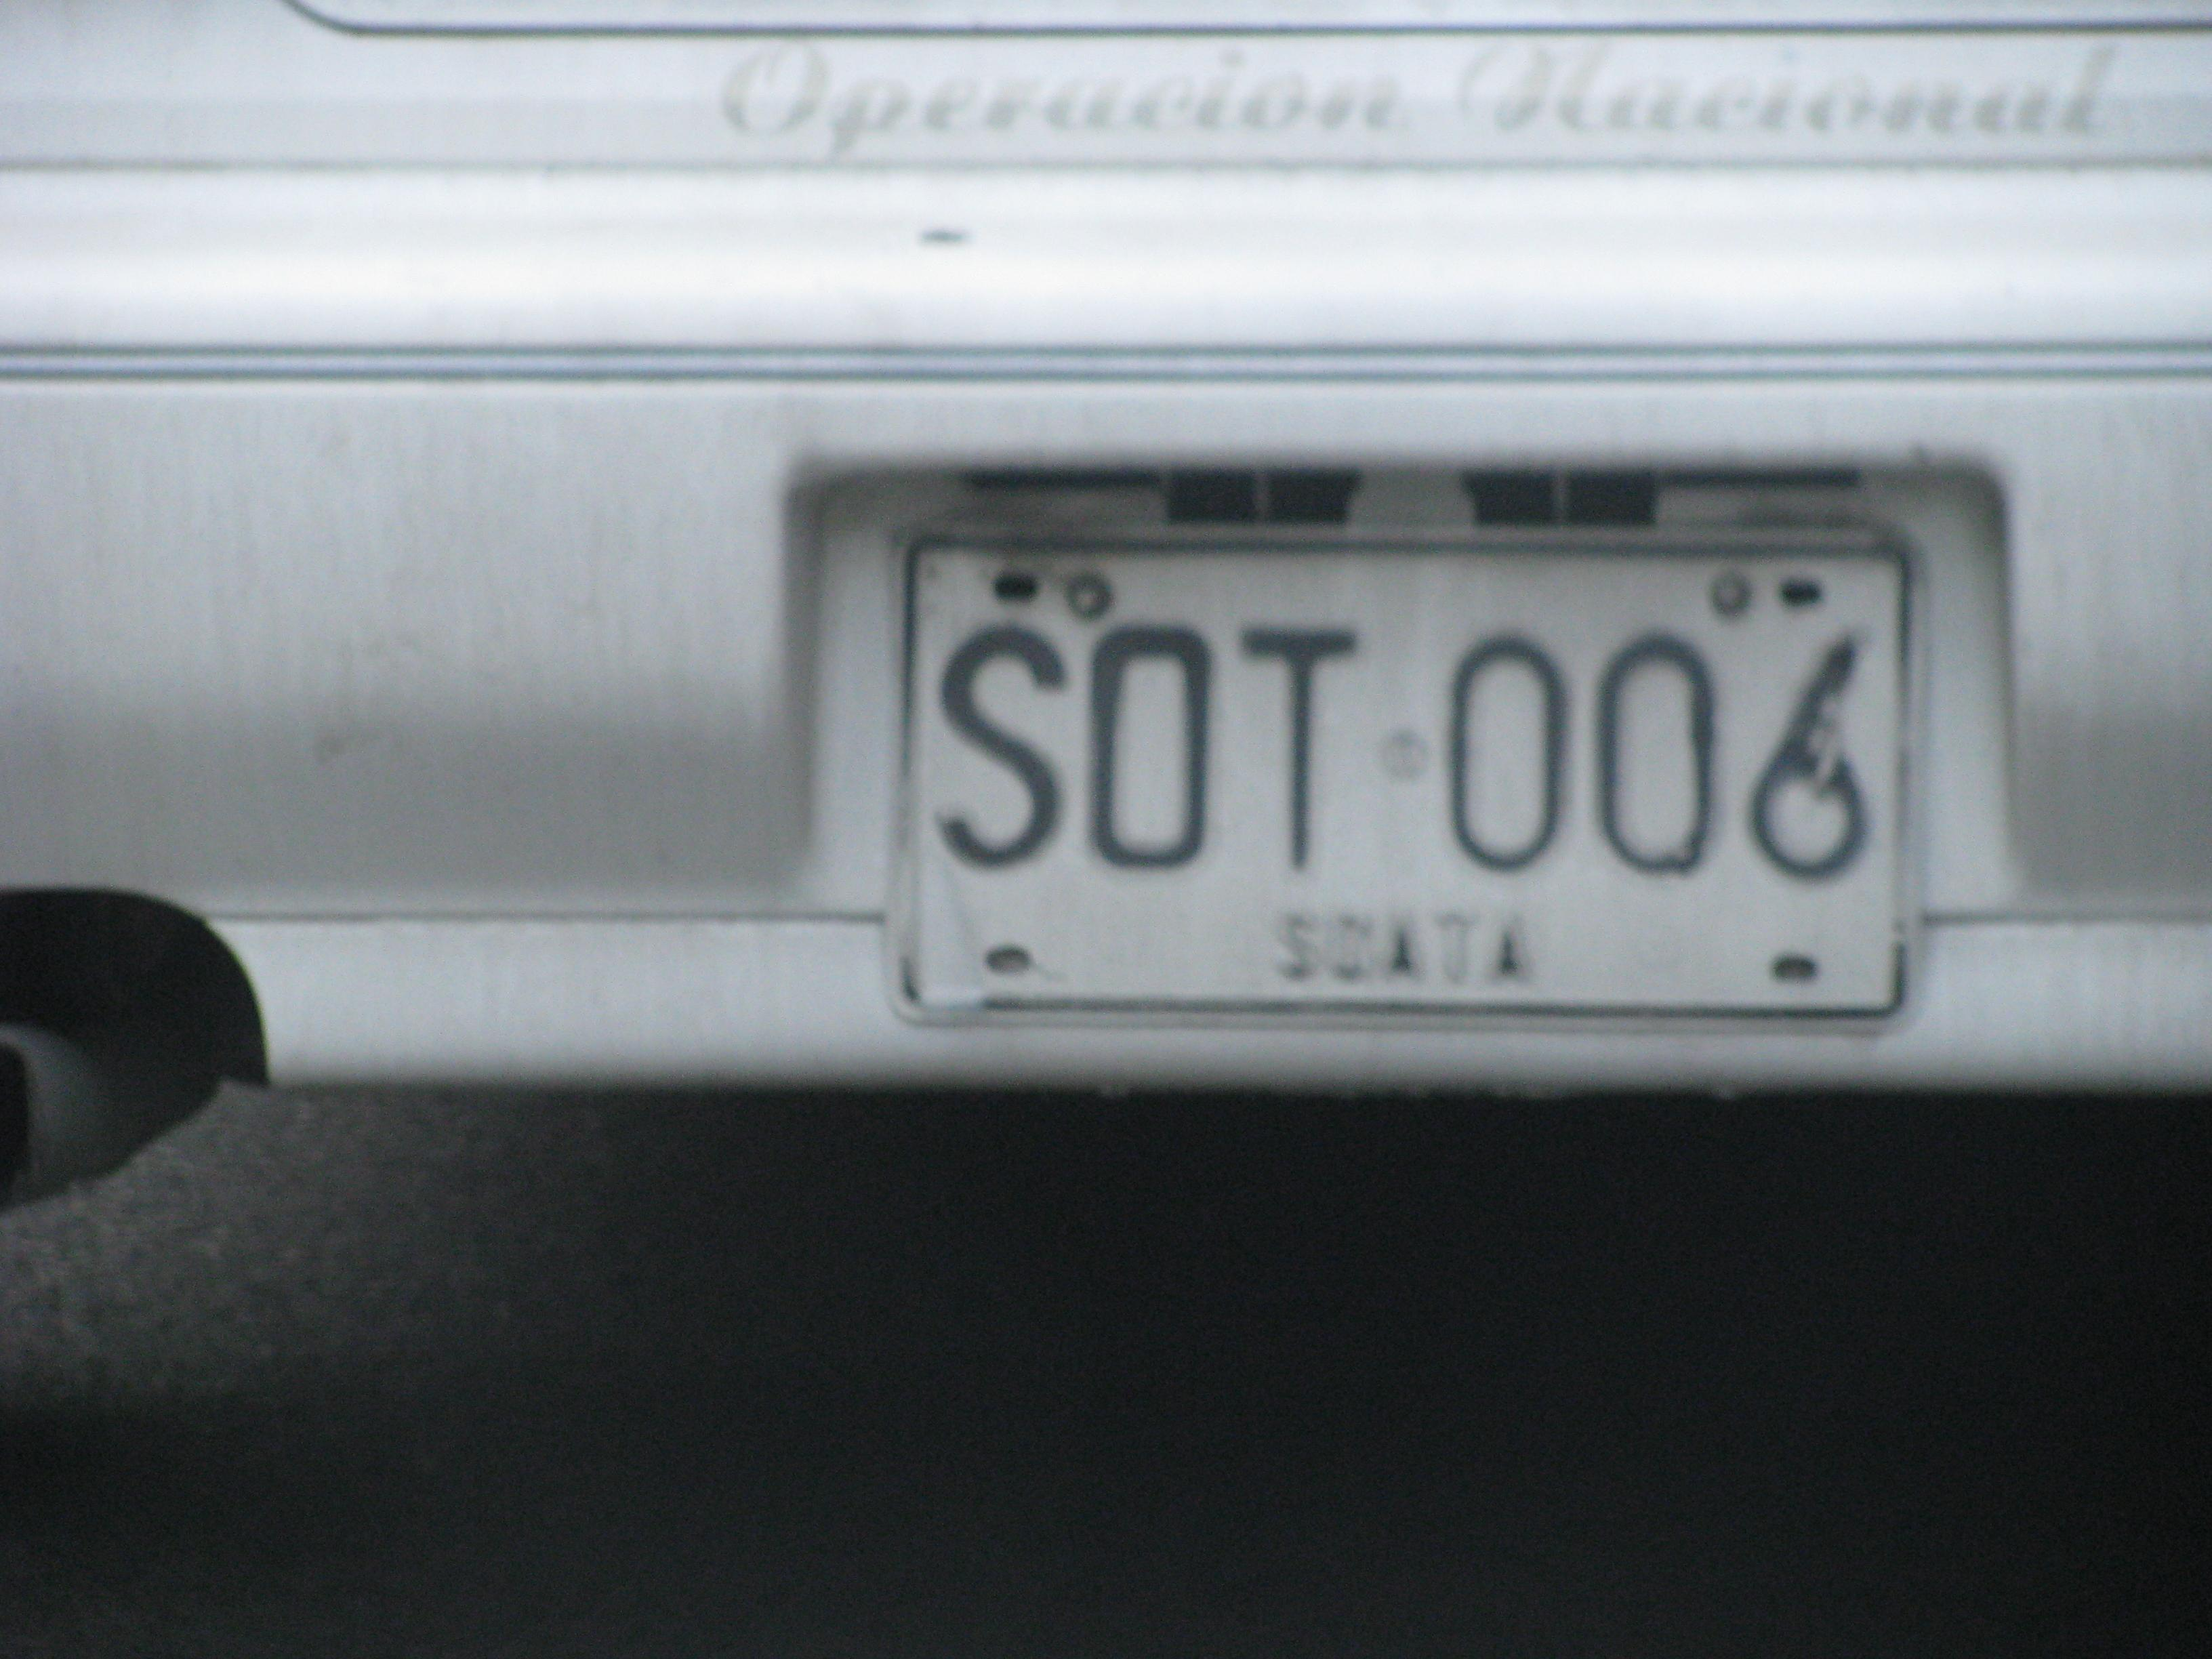placas: (879, 514, 1923, 1036)
